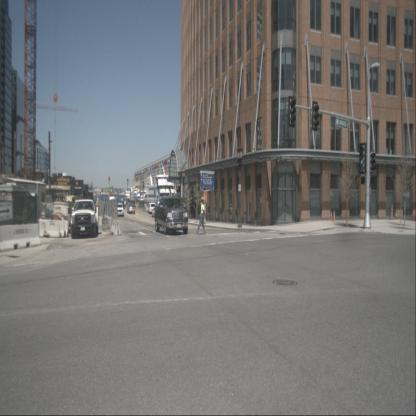barrier: (0, 223, 42, 253), (42, 219, 69, 237), (38, 219, 64, 237), (110, 218, 122, 237), (107, 215, 114, 231), (93, 216, 104, 226), (103, 214, 109, 225)
cone: (389, 204, 394, 220), (332, 210, 336, 222), (329, 211, 332, 221)
